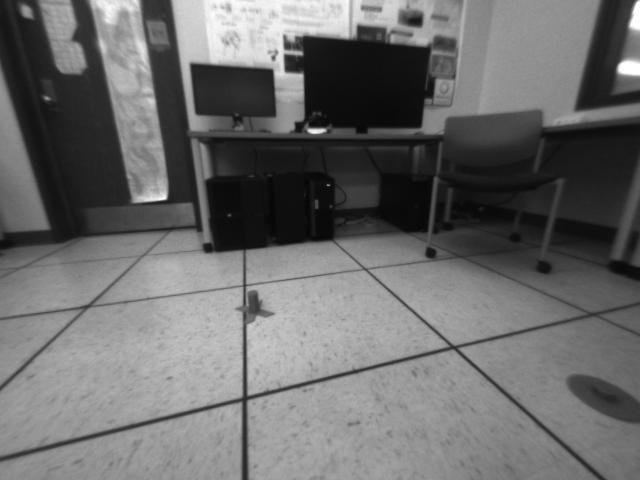X: (233, 289, 277, 325)
